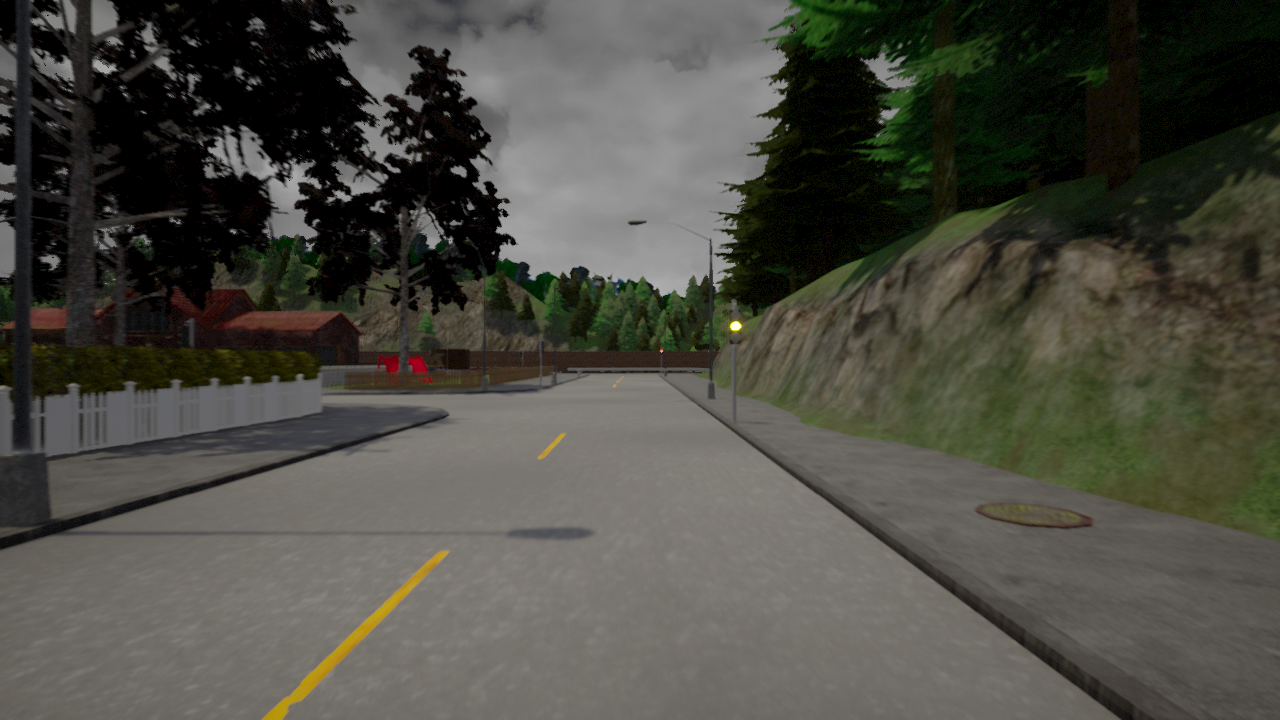yellow: (725, 309, 744, 349)
